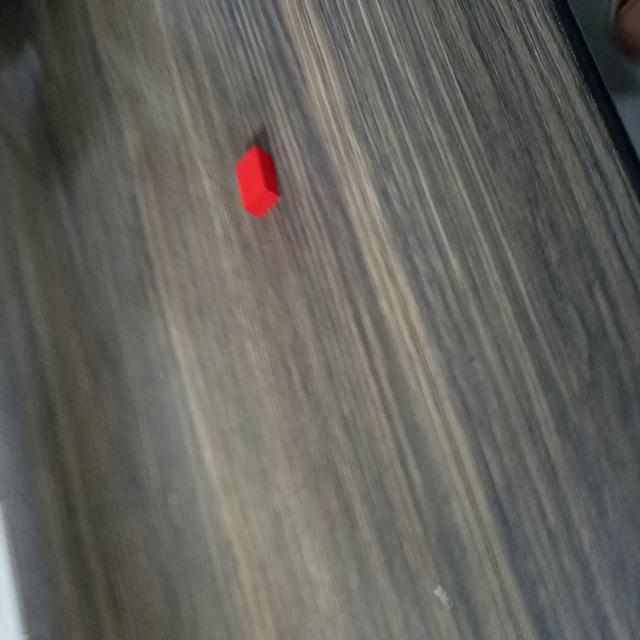cube: (231, 138, 282, 218)
